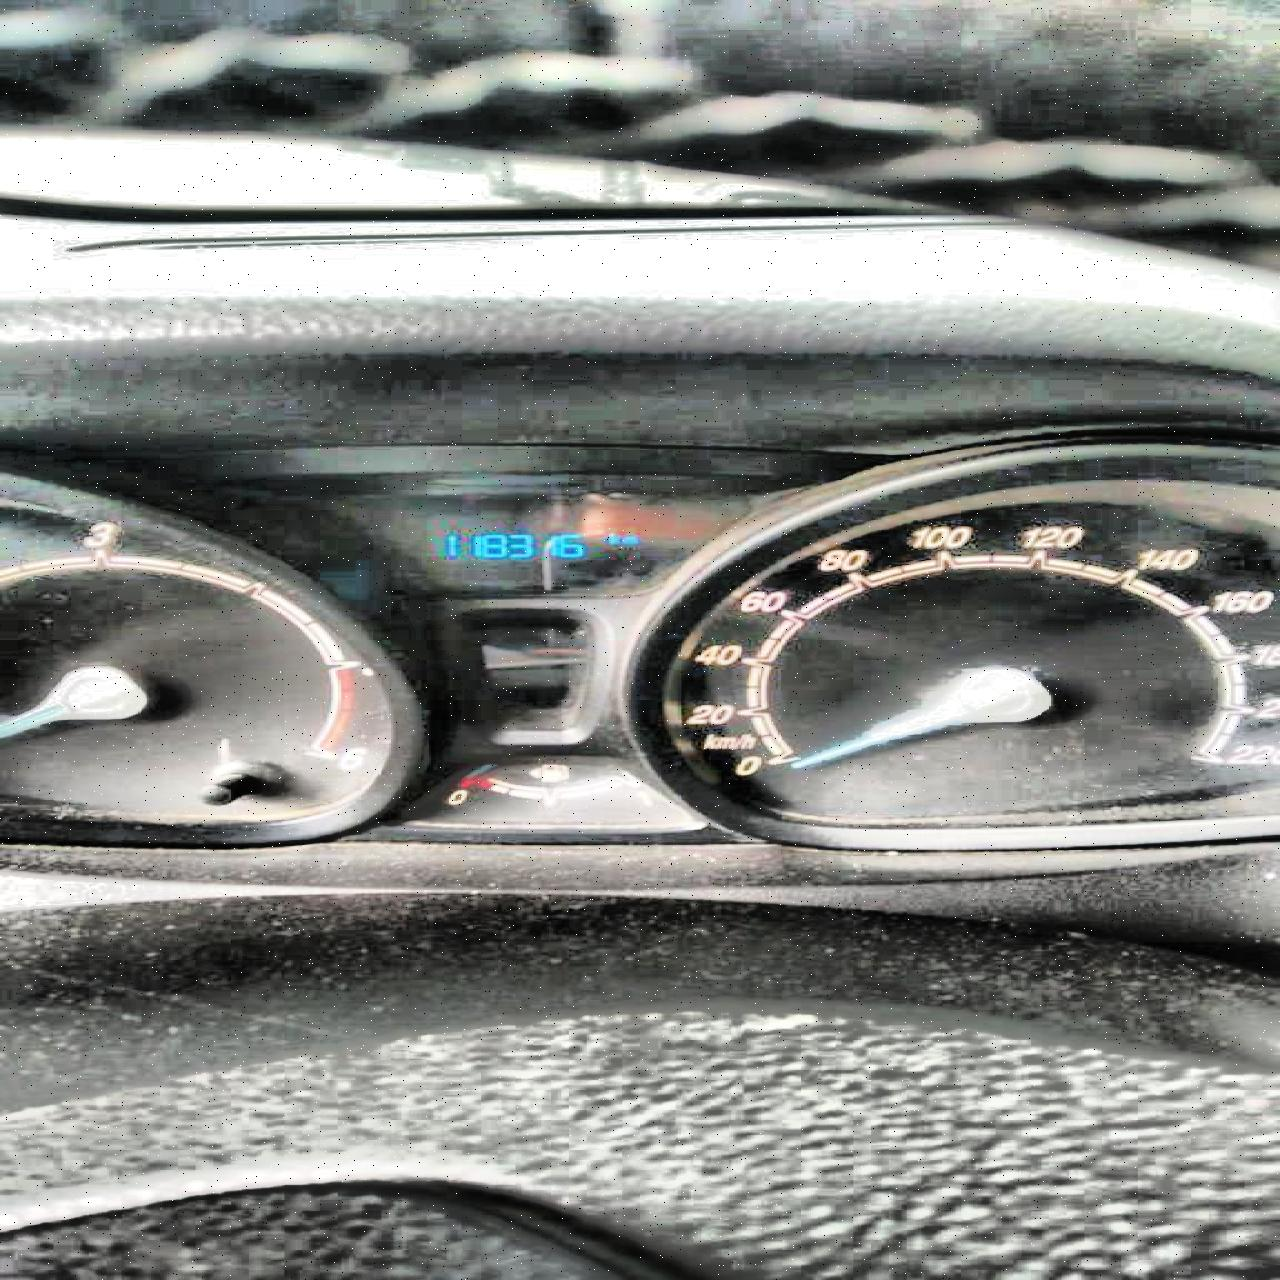1: (442, 533, 458, 557), (544, 535, 558, 556), (469, 535, 481, 556)
3: (506, 532, 531, 558)
6: (558, 533, 583, 558)
8: (481, 533, 506, 558)
X: (620, 535, 640, 544), (607, 533, 620, 545)
odometer: (305, 471, 714, 611)
